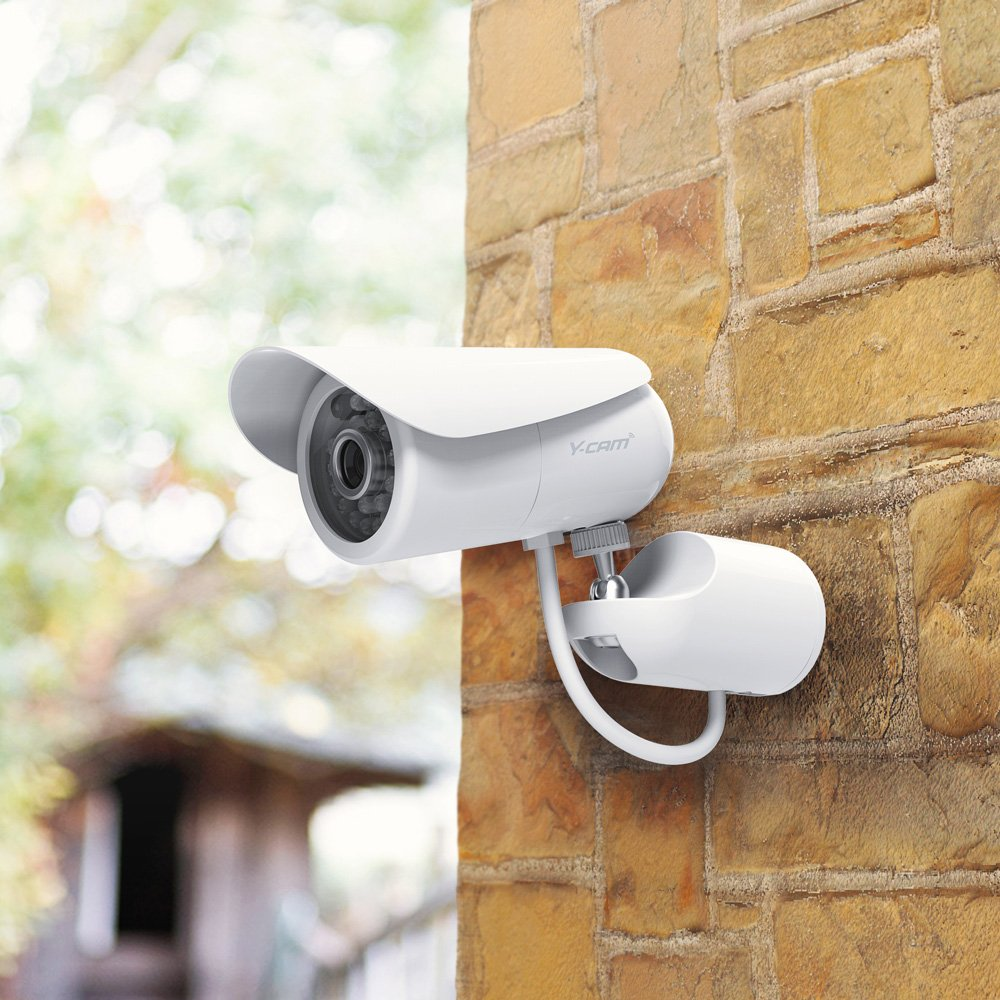CC Camera: (217, 325, 691, 578)
